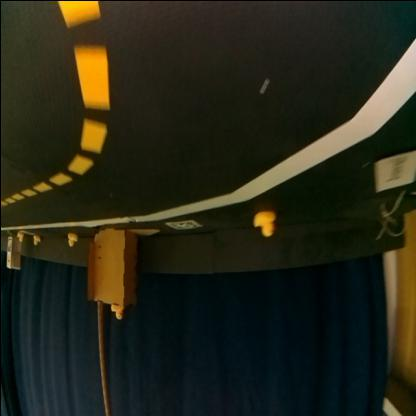Duckie: (252, 212, 275, 236), (110, 304, 120, 318), (66, 234, 76, 246), (32, 235, 39, 244), (16, 233, 22, 241)
QR code: (166, 219, 200, 231)
